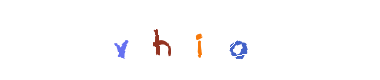H: (150, 0, 230, 80)
I: (150, 0, 230, 80)
O: (154, 0, 234, 80)
V: (120, 0, 200, 80)
